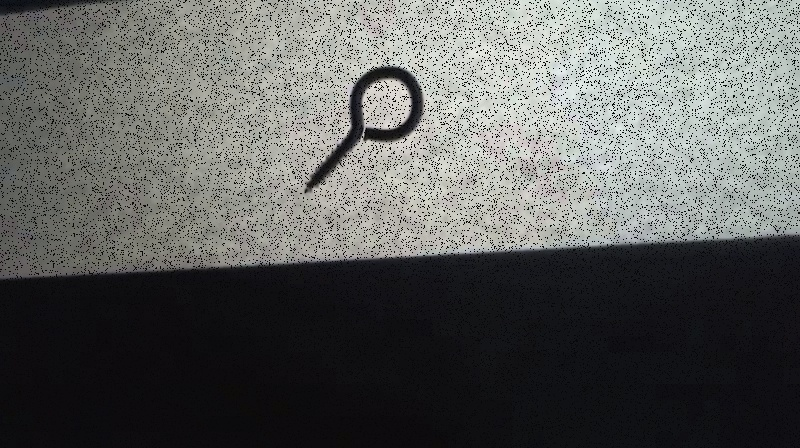O001: (299, 63, 428, 195)
